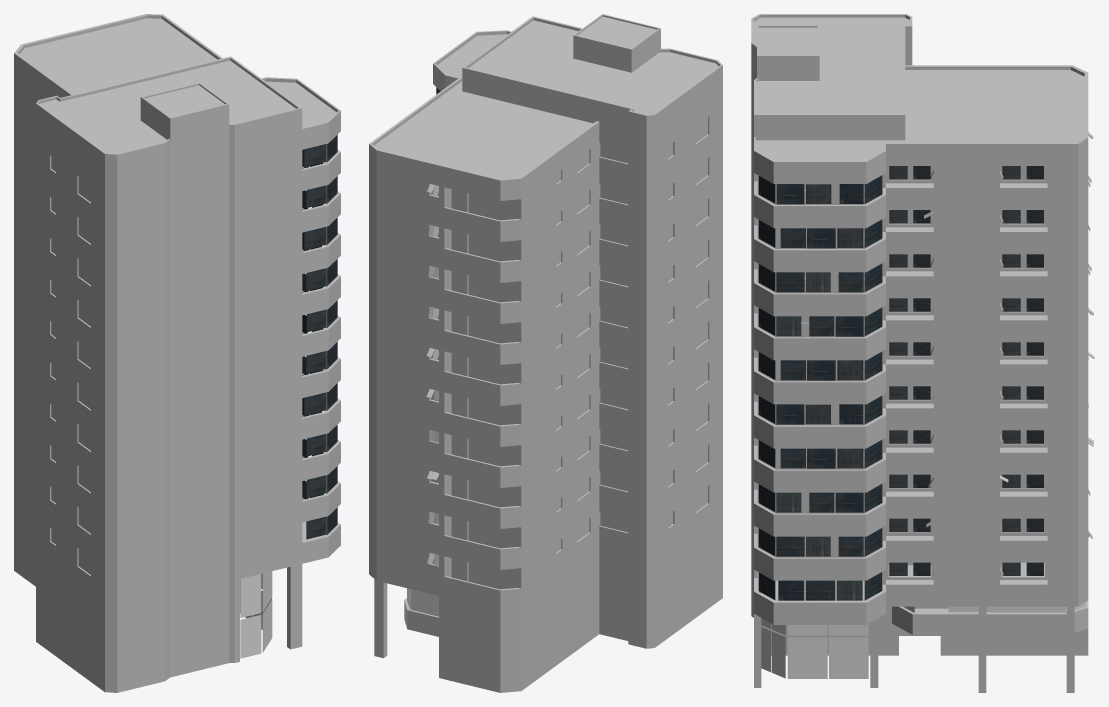
3 views of the same model, side by side, from view 1: azimuth 30°, elevation 25°; view 2: azimuth 150°, elevation 25°; view 3: azimuth 270°, elevation 25° (orthographic). The views are drawn at different scales.
Visible parts, largest first — view 1: BR-004; view 2: BR-004; view 3: BR-004.
Part boxes in pixels (x1,y1,x2,y2): BR-004: (14,14,340,692); BR-004: (369,14,722,692); BR-004: (751,14,1094,692).
Size of what is drawn, in the model's own units: 18.4 by 40.5 by 21.17.
